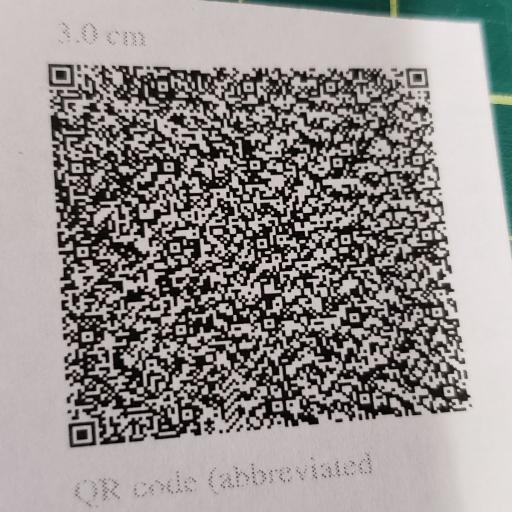QR_CODE: (30, 34, 488, 458)
